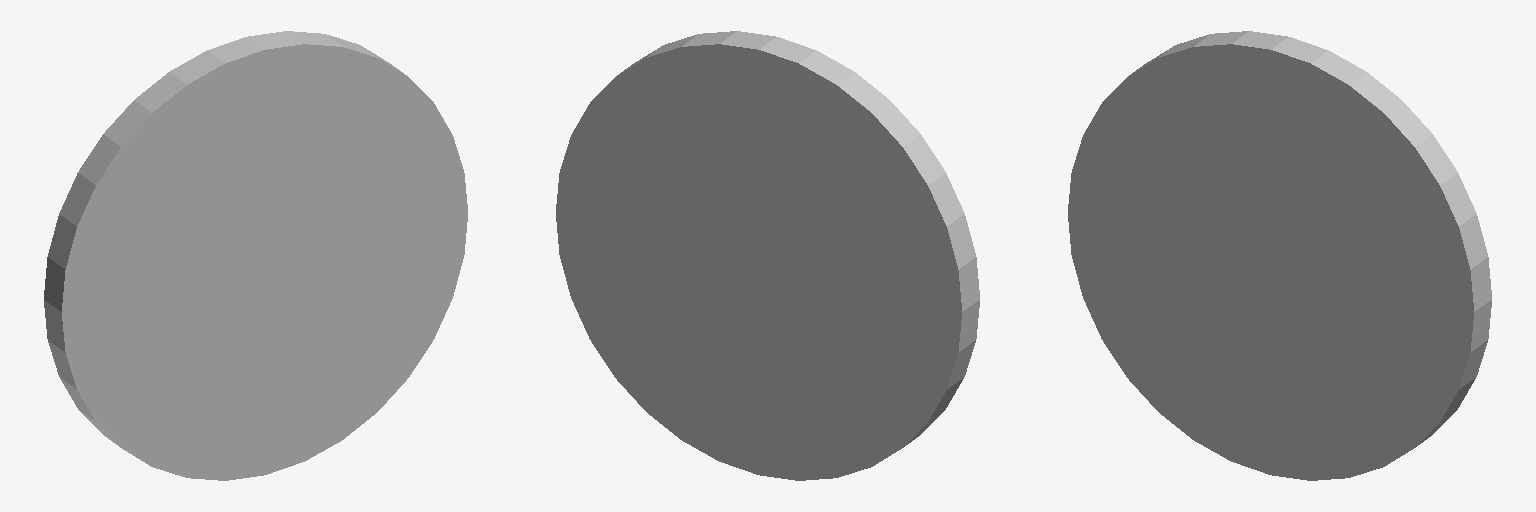
The model's file is Coin.obj.
3 renders of one model, left to right at view 1: azimuth 30°, elevation 25°; view 2: azimuth 150°, elevation 25°; view 3: azimuth 330°, elevation 25°, orthographic.
Visible parts, largest first — view 1: GoldCoin5_low; view 2: GoldCoin5_low; view 3: GoldCoin5_low.
Boxes of the visible parts, box(x1,y1,x2,y2) form: GoldCoin5_low: box(44, 31, 467, 480); GoldCoin5_low: box(556, 31, 979, 480); GoldCoin5_low: box(1068, 31, 1491, 480).
Size of the model in its own units: 2.98 by 2.98 by 0.2285.